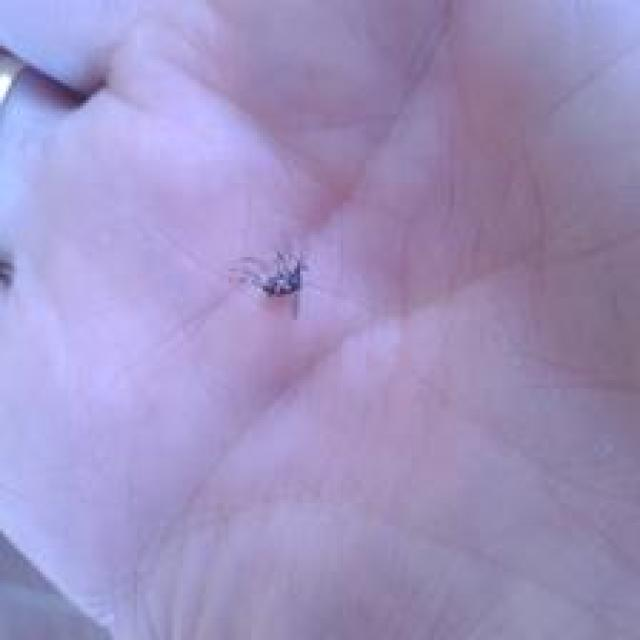Aedes albopictus: (227, 249, 310, 320)
